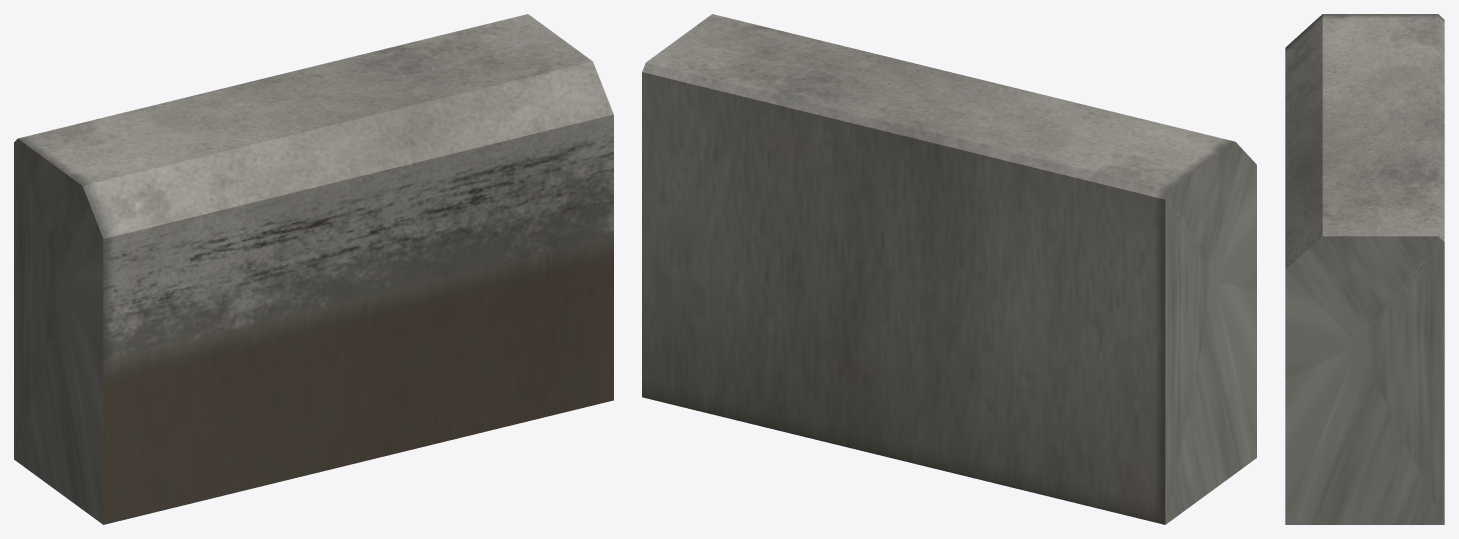
File: curb_half_lod1_web.glb
3 renders of one model, left to right at view 1: azimuth 30°, elevation 25°; view 2: azimuth 150°, elevation 25°; view 3: azimuth 270°, elevation 25°, orthographic. The views are drawn at different scales.
Parts seen in each view (by area): view 1: curb_half_Mesh; view 2: curb_half_Mesh; view 3: curb_half_Mesh.
Boxes of the visible parts, left/top/right/bottom form: curb_half_Mesh: left=14, top=14, right=613, bottom=524; curb_half_Mesh: left=642, top=14, right=1256, bottom=524; curb_half_Mesh: left=1285, top=14, right=1444, bottom=524.
Size of the model in its own units: 0.495 by 0.3 by 0.15.
1 material, 1 textured.
